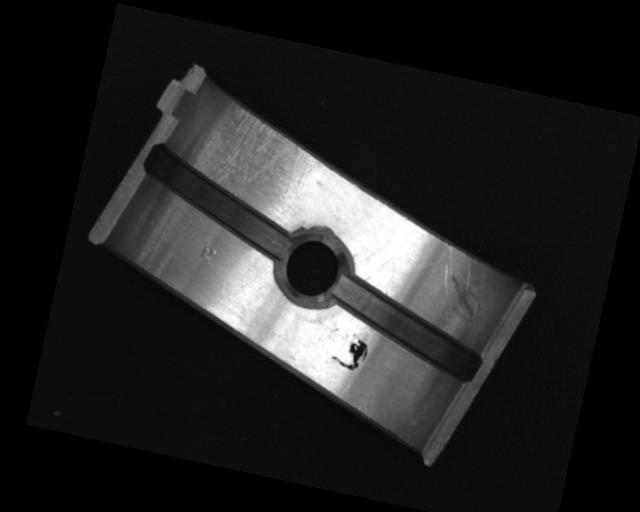blot: (329, 330, 372, 373)
bruise: (195, 245, 219, 265)
gap: (130, 140, 311, 264), (323, 275, 494, 387)
hole: (268, 227, 354, 310)
nick: (429, 244, 491, 328)
scratch: (182, 100, 328, 208)
